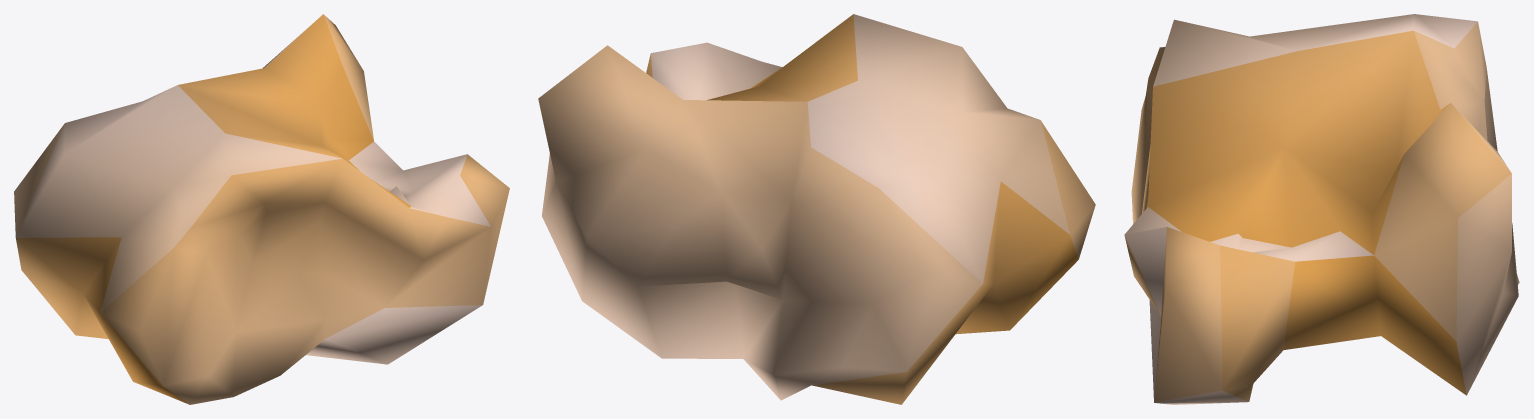
The model's file is Fossil6.fbx.
The picture shows the model from 3 angles, left to right: view 1: azimuth 30°, elevation 25°; view 2: azimuth 150°, elevation 25°; view 3: azimuth 270°, elevation 25°; orthographic projection. The views are drawn at different scales.
Parts seen in each view (by area): view 1: vevlaa3aa_LOD0_TIER3_000; view 2: vevlaa3aa_LOD0_TIER3_000; view 3: vevlaa3aa_LOD0_TIER3_000.
Boxes of the visible parts, box(x1,y1,x2,y2) form: vevlaa3aa_LOD0_TIER3_000: box(14, 14, 509, 404); vevlaa3aa_LOD0_TIER3_000: box(538, 14, 1095, 404); vevlaa3aa_LOD0_TIER3_000: box(1124, 14, 1519, 404).
Size of the model in its own units: 4.06 by 2.56 by 2.78.
